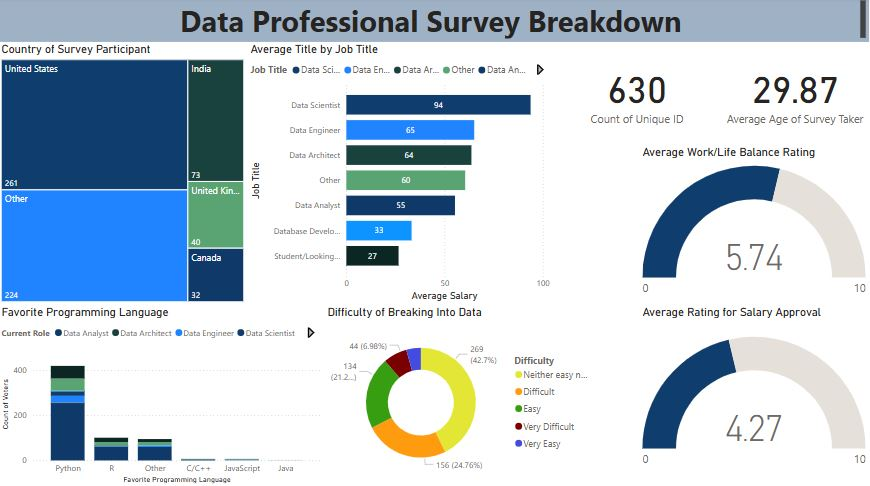

Layout of this report page (visuals, bound fields, positions):
{"tool":"powerbi","page":{"name":"Page 1","canvas":[1280,720],"ordinal":0},"visuals":[{"type":"textbox","box":[0,0,1280,65.5],"z":0},{"type":"card","fields":{"Values":["Count(Data Professional Survey.Unique ID)"]},"box":[815.5,66.1,246.9,148.4],"z":1000},{"type":"card","fields":{"Values":["Avg(Data Professional Survey.Q10 - Current Age)"]},"box":[1062.4,66.1,217.5,148.4],"z":2000},{"type":"barChart","title":"Average Title by Job Title","fields":{"Category":["Data Professional Survey.Q1 - Which Title Best Fits your Current Role?.1"],"Y":["Avg(Data Professional Survey.Average Salary)"],"Series":["Data Professional Survey.Q1 - Which Title Best Fits your Current Role?.1"]},"box":[365.9,66.1,449.6,386.4],"z":2001},{"type":"columnChart","title":"Favorite Programming Language","fields":{"Category":["Data Professional Survey.Q5 - Favorite Programming Language.1"],"Y":["CountNonNull(Data Professional Survey.Unique ID)"],"Series":["Data Professional Survey.Q1 - Which Title Best Fits your Current Role?.1"]},"box":[0,452.6,479,267.4],"z":2002},{"type":"treemap","title":"Country of Survey Participant","fields":{"Group":["Data Professional Survey.Q11 - Which Country do you live in?.1"],"Values":["CountNonNull(Data Professional Survey.Q11 - Which Country do you live in?.1)"]},"box":[0,66.1,365.9,386.4],"z":2003},{"type":"gauge","title":"Average Work/Life Balance Rating","fields":{"Y":["Avg(Data Professional Survey.Q6 - How Happy are you in your Current Position with the following? (Work/Life Balance))"],"MinValue":["Min(Data Professional Survey.Q6 - How Happy are you in your Current Position with the following? (Work/Life Balance))"],"MaxValue":["Max(Data Professional Survey.Q6 - How Happy are you in your Current Position with the following? (Work/Life Balance))1"]},"box":[941.9,217.5,338,235.1],"z":2004},{"type":"gauge","title":"Average Rating for Salary Approval","fields":{"MinValue":["Min(Data Professional Survey.Q6 - How Happy are you in your Current Position with the following? (Salary))"],"MaxValue":["Max(Data Professional Survey.Q6 - How Happy are you in your Current Position with the following? (Salary))"],"Y":["Avg(Data Professional Survey.Q6 - How Happy are you in your Current Position with the following? (Salary))1"]},"box":[941.9,452.6,338,267.4],"z":2005},{"type":"donutChart","title":"Difficulty of Breaking Into Data","fields":{"Category":["Data Professional Survey.Q7 - How difficult was it for you to break into Data?"],"Series":["Data Professional Survey.Q7 - How difficult was it for you to break into Data?"],"Y":["CountNonNull(Data Professional Survey.Q7 - How difficult was it for you to break into Data?)"]},"box":[479,452.6,402.6,266],"z":2006}]}

Visuals, with their boxes in screenshot pixels (x1, y1, x2, y2), scaled from the page's 1280x720 canvas onto the 870x486 screenshot:
textbox: pyautogui.locateOnScreen(0, 0, 869, 44)
card - Count(Data Professional Survey.Unique ID): pyautogui.locateOnScreen(554, 45, 722, 145)
card - Avg(Data Professional Survey.Q10 - Current Age): pyautogui.locateOnScreen(722, 45, 869, 145)
"Average Title by Job Title" barChart: pyautogui.locateOnScreen(249, 45, 554, 305)
"Favorite Programming Language" columnChart: pyautogui.locateOnScreen(0, 306, 326, 485)
"Country of Survey Participant" treemap: pyautogui.locateOnScreen(0, 45, 249, 305)
"Average Work/Life Balance Rating" gauge: pyautogui.locateOnScreen(640, 147, 869, 306)
"Average Rating for Salary Approval" gauge: pyautogui.locateOnScreen(640, 306, 869, 485)
"Difficulty of Breaking Into Data" donutChart: pyautogui.locateOnScreen(326, 306, 599, 485)
